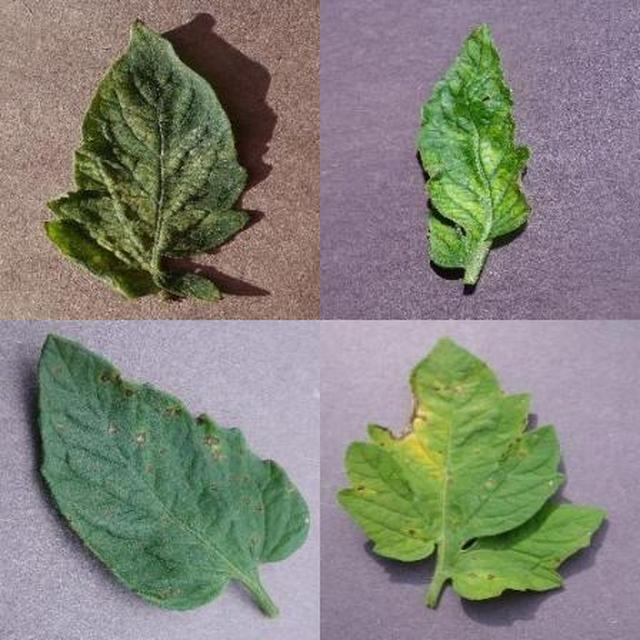Spider Mites Leaf: (170, 206, 640, 640)
